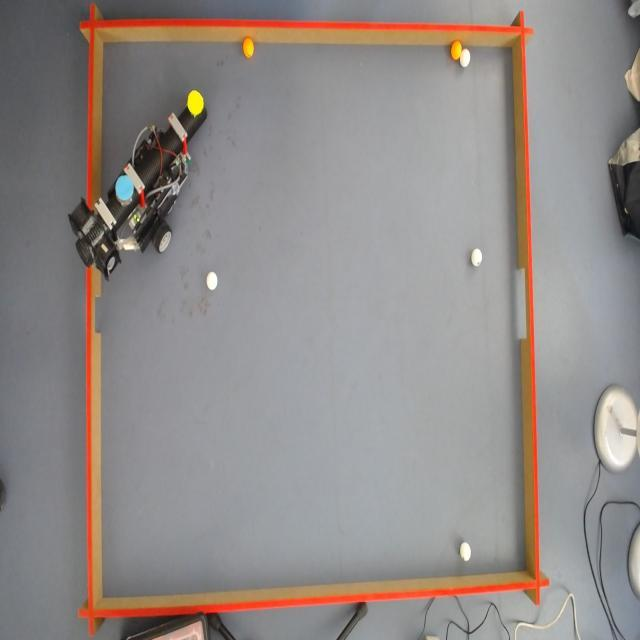orange: (449, 41, 464, 60), (242, 39, 254, 60)
robot: (69, 102, 208, 270)
robot-front: (187, 89, 204, 116)
robot-rear: (114, 173, 134, 203)
white: (205, 270, 218, 290), (458, 49, 472, 66), (461, 542, 472, 562), (472, 246, 482, 266)
